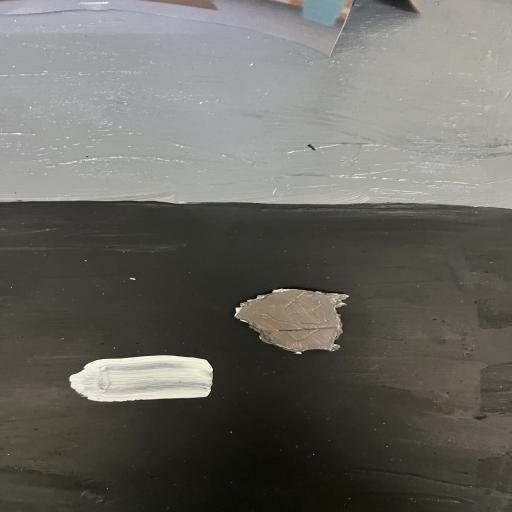porthole: (227, 289, 356, 356)
